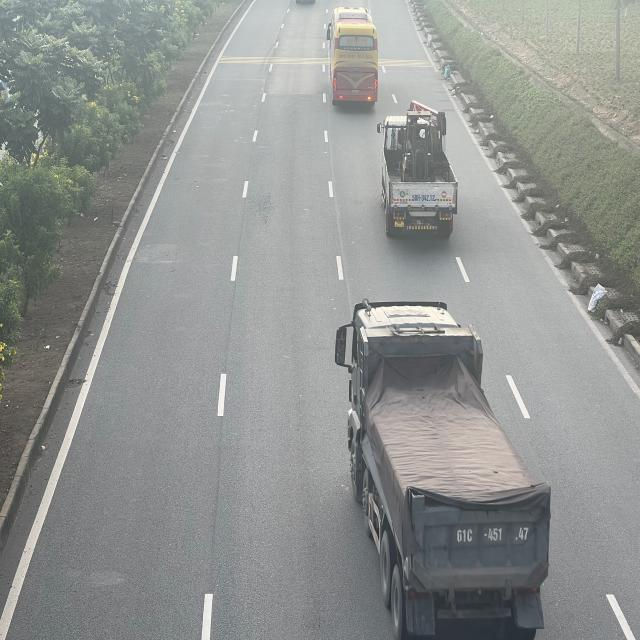coach: (326, 8, 378, 108)
container: (337, 296, 550, 638)
truck: (380, 99, 460, 237)
